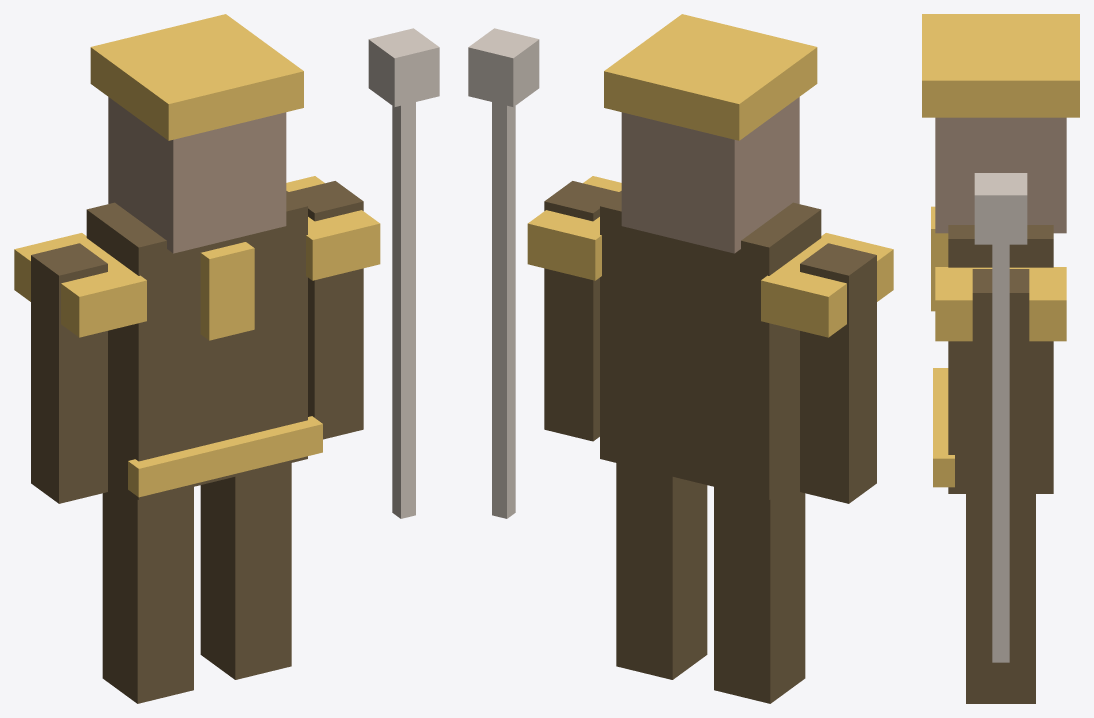
File: 12_vale_gravesong_sentinel_from.glb
3 views of the same model, side by side, from view 1: azimuth 30°, elevation 25°; view 2: azimuth 150°, elevation 25°; view 3: azimuth 270°, elevation 25° (orthographic).
Visible parts, largest first — view 1: Vale Gravesong, Sentinel from; view 2: Vale Gravesong, Sentinel from; view 3: Vale Gravesong, Sentinel from.
Part boxes in pixels (box(x1,y1,x2,y2)): Vale Gravesong, Sentinel from: box(14, 14, 439, 703); Vale Gravesong, Sentinel from: box(468, 14, 893, 703); Vale Gravesong, Sentinel from: box(922, 14, 1079, 703).
Size of the model in its own units: 1 by 1.54 by 0.355.
